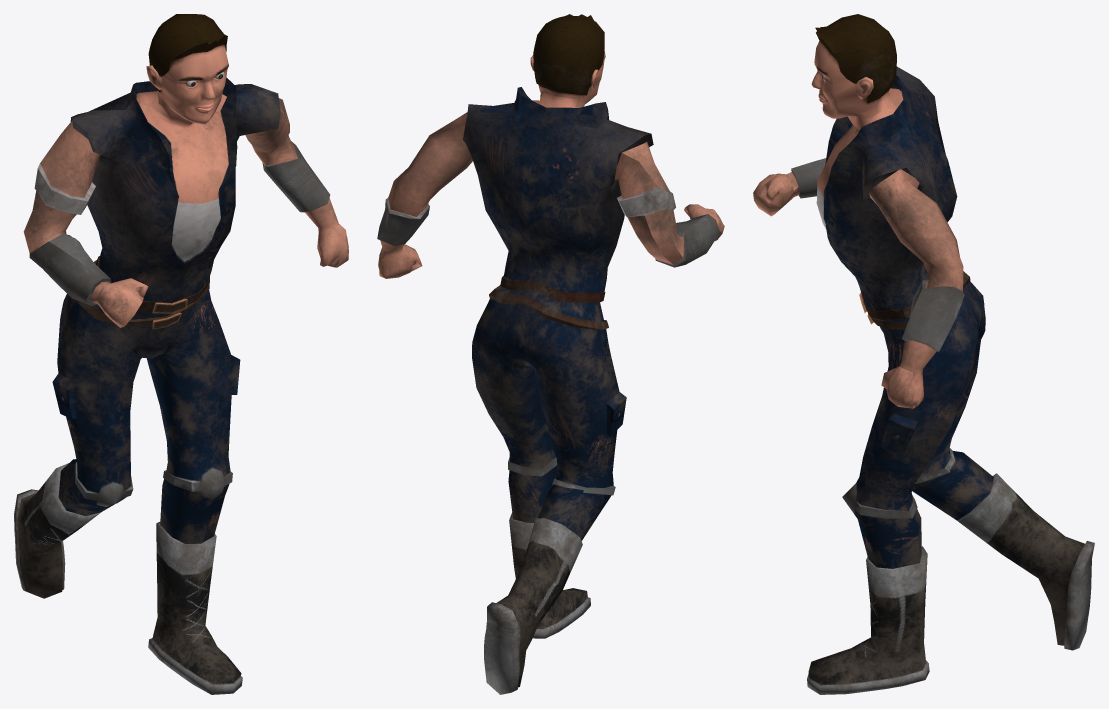
File: Anim_correr_jugador.0037.obj
3 renders of one model, left to right at view 1: azimuth 30°, elevation 25°; view 2: azimuth 150°, elevation 25°; view 3: azimuth 270°, elevation 25°, orthographic. The views are drawn at different scales.
Visible parts, largest first — view 1: Anim_correr_jugador; view 2: Anim_correr_jugador; view 3: Anim_correr_jugador.
Boxes of the visible parts, left/top/right/bottom form: Anim_correr_jugador: left=14, top=14, right=348, bottom=694; Anim_correr_jugador: left=377, top=14, right=724, bottom=694; Anim_correr_jugador: left=753, top=14, right=1094, bottom=694.
Bounding box in the file's own units: 4.91 × 9.51 × 4.47.
Materials: 2 (2 with a texture image).
